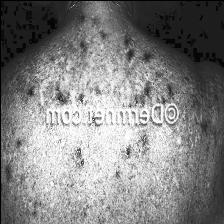Non-Cancerous Skin Condition: (0, 114, 215, 224), (0, 0, 183, 105)
